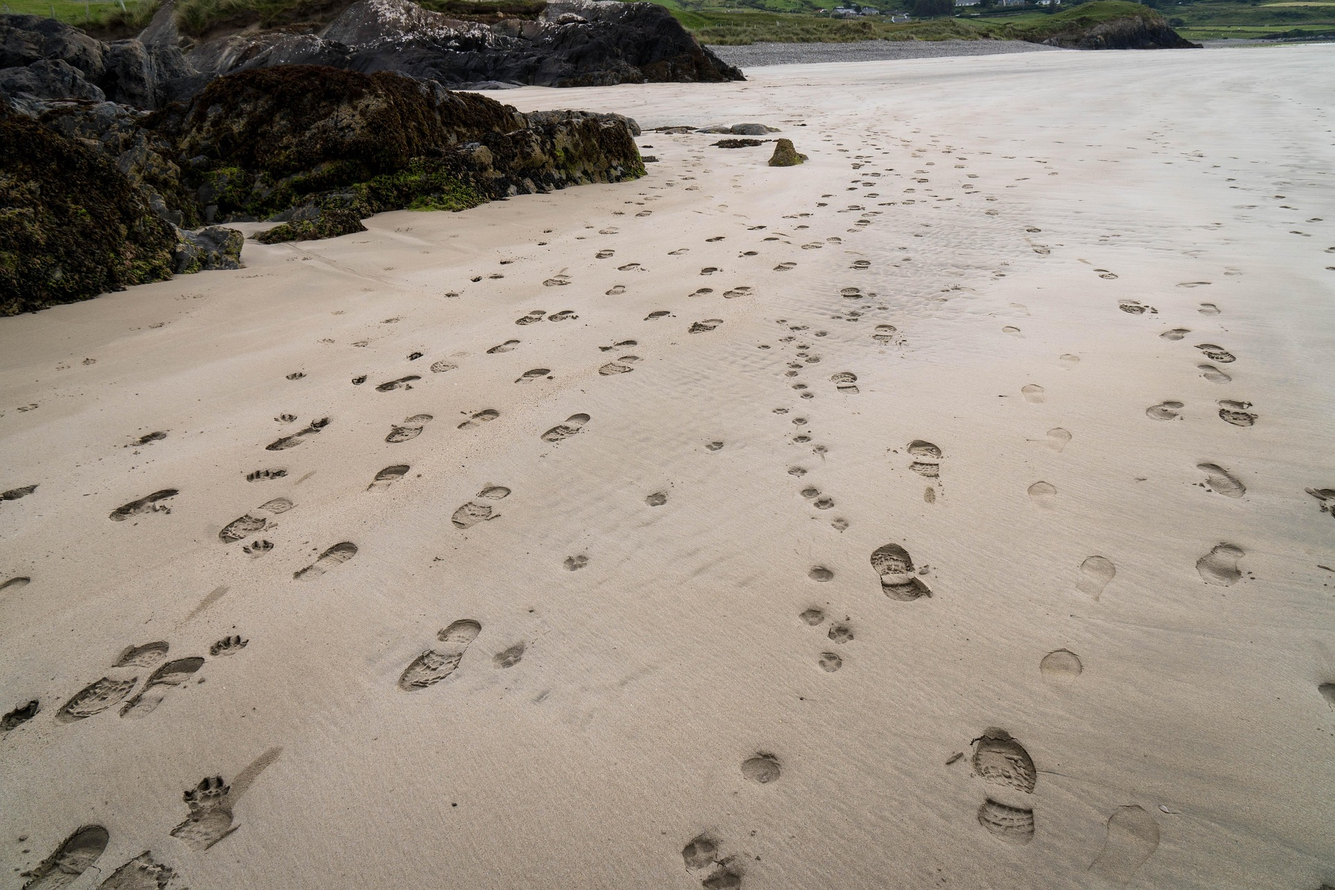human_footprint: (56, 641, 168, 723), (970, 728, 1037, 844), (398, 619, 480, 690), (22, 825, 109, 889), (1090, 806, 1160, 884), (120, 657, 204, 717), (170, 776, 236, 850), (971, 727, 1037, 793), (871, 543, 930, 601), (218, 497, 293, 542), (682, 835, 742, 889), (98, 851, 176, 889), (977, 798, 1035, 845), (294, 542, 357, 579), (109, 489, 178, 521), (1196, 542, 1245, 585), (266, 417, 329, 450), (1077, 556, 1116, 600), (1197, 463, 1245, 497), (0, 699, 40, 738), (1039, 649, 1083, 684), (540, 413, 590, 442), (385, 414, 433, 442), (451, 501, 499, 528), (741, 752, 781, 784), (367, 464, 410, 490), (1218, 401, 1257, 427), (458, 409, 499, 429), (1195, 343, 1235, 363), (1027, 480, 1056, 507), (599, 356, 639, 375), (1146, 400, 1183, 420), (377, 375, 419, 391), (1197, 364, 1231, 383), (830, 372, 859, 394), (1119, 300, 1157, 314), (515, 368, 551, 382), (598, 339, 638, 351), (688, 318, 722, 332), (515, 310, 546, 325), (1159, 327, 1190, 341), (1021, 385, 1045, 403), (487, 340, 519, 353)
